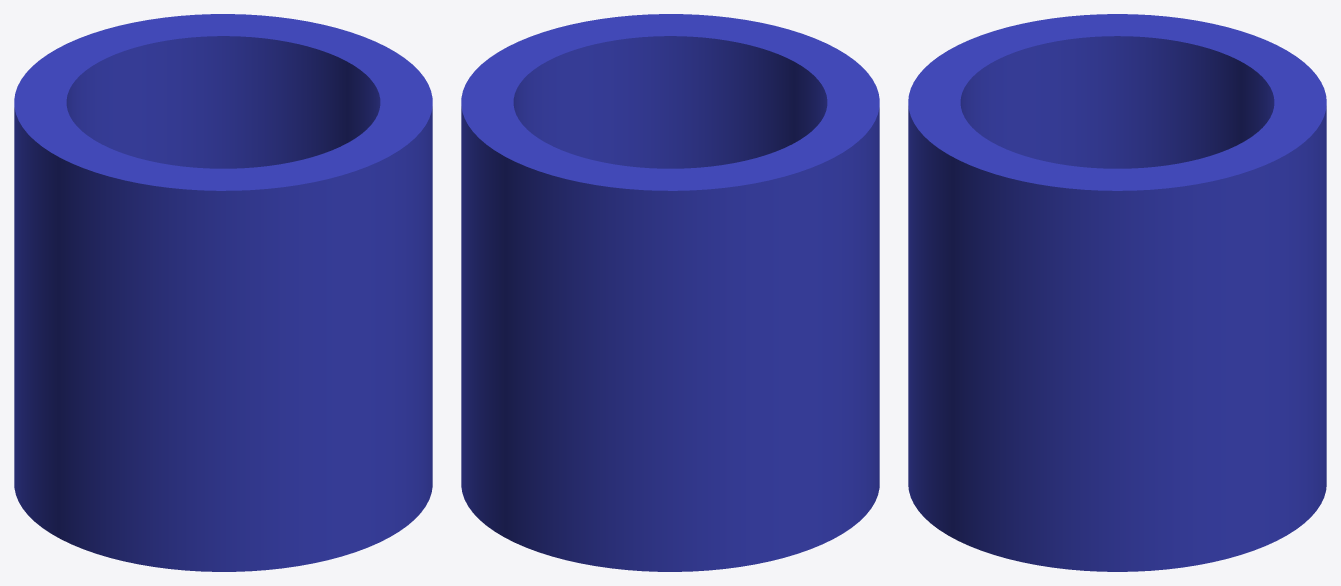
The model's file is Ring.fbx.
3 views of the same model, side by side, from view 1: azimuth 30°, elevation 25°; view 2: azimuth 150°, elevation 25°; view 3: azimuth 270°, elevation 25° (orthographic).
Visible parts, largest first — view 1: root; view 2: root; view 3: root.
Boxes of the visible parts, box(x1,y1,x2,y2) form: root: box(14, 14, 432, 571); root: box(461, 14, 879, 571); root: box(908, 14, 1326, 571).
Size of the model in its own units: 0.2185 by 0.2194 by 0.2185.
